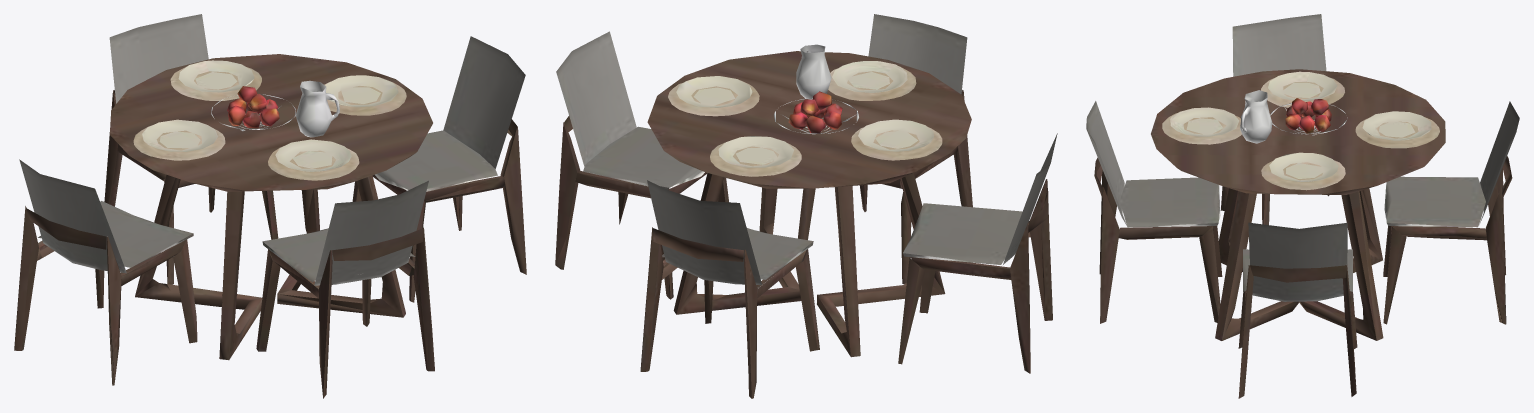
File: DiningTable0004.obj
3 renders of one model, left to right at view 1: azimuth 30°, elevation 25°; view 2: azimuth 150°, elevation 25°; view 3: azimuth 270°, elevation 25°, orthographic. The views are drawn at different scales.
Bounding box in the file's own units: 2.03 × 0.947 × 1.75.
Materials: 1 (1 with a texture image).
